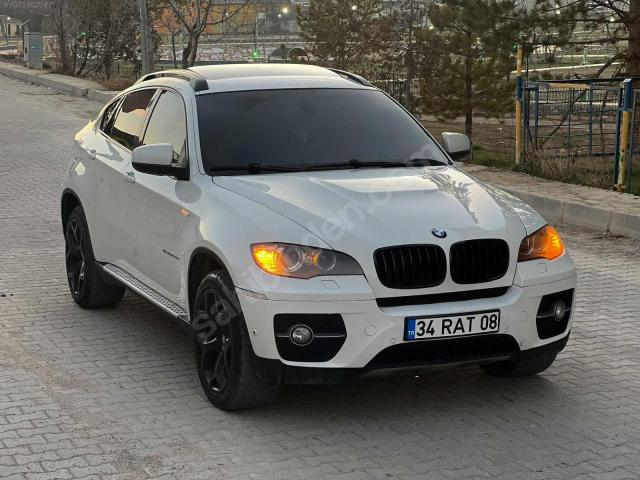plaka: (406, 311, 499, 339)
